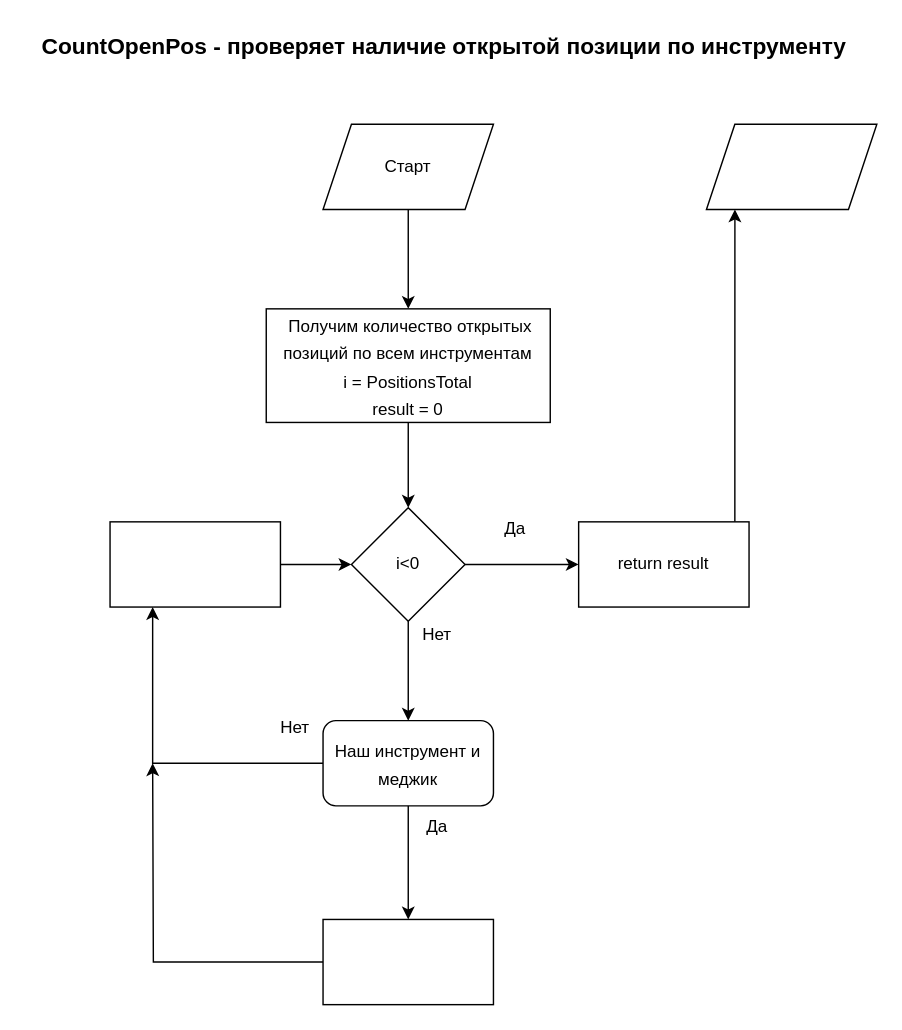
Image size: 902x1030. Some labels were removed from this diagram. The shapes that lost their labels are listed below. From the top down, each one's box as (x1, y1, x2, y2) in pixels, then its label:
(705, 123, 877, 209): Выход
(109, 520, 280, 607): i - -
(322, 918, 493, 1005): result ++
